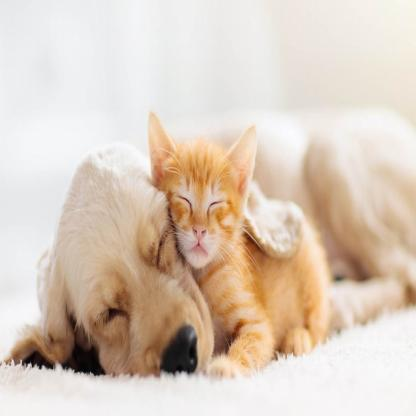cat: (150, 92, 264, 290)
